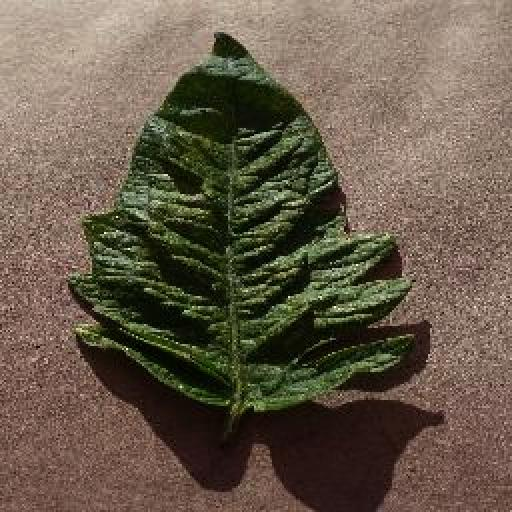disease_tomato: (70, 30, 415, 414)
